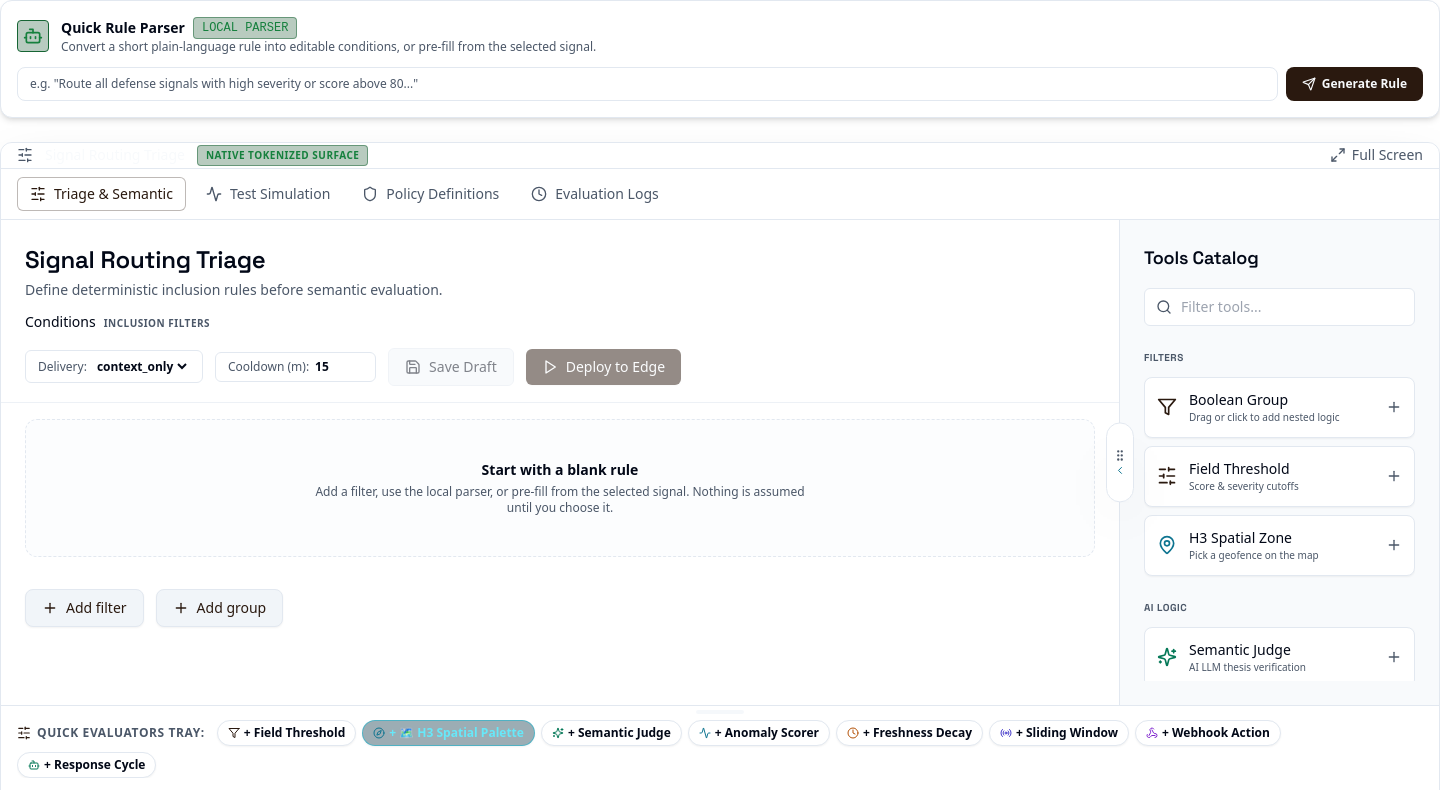
Test: RuleBuilder Component › switches to Policy Definitions tab and renders active governance matrix
This screenshot has width=1440, height=790.
Click the button "Policy Definitions" at (431, 194), box [350,178,511,210]
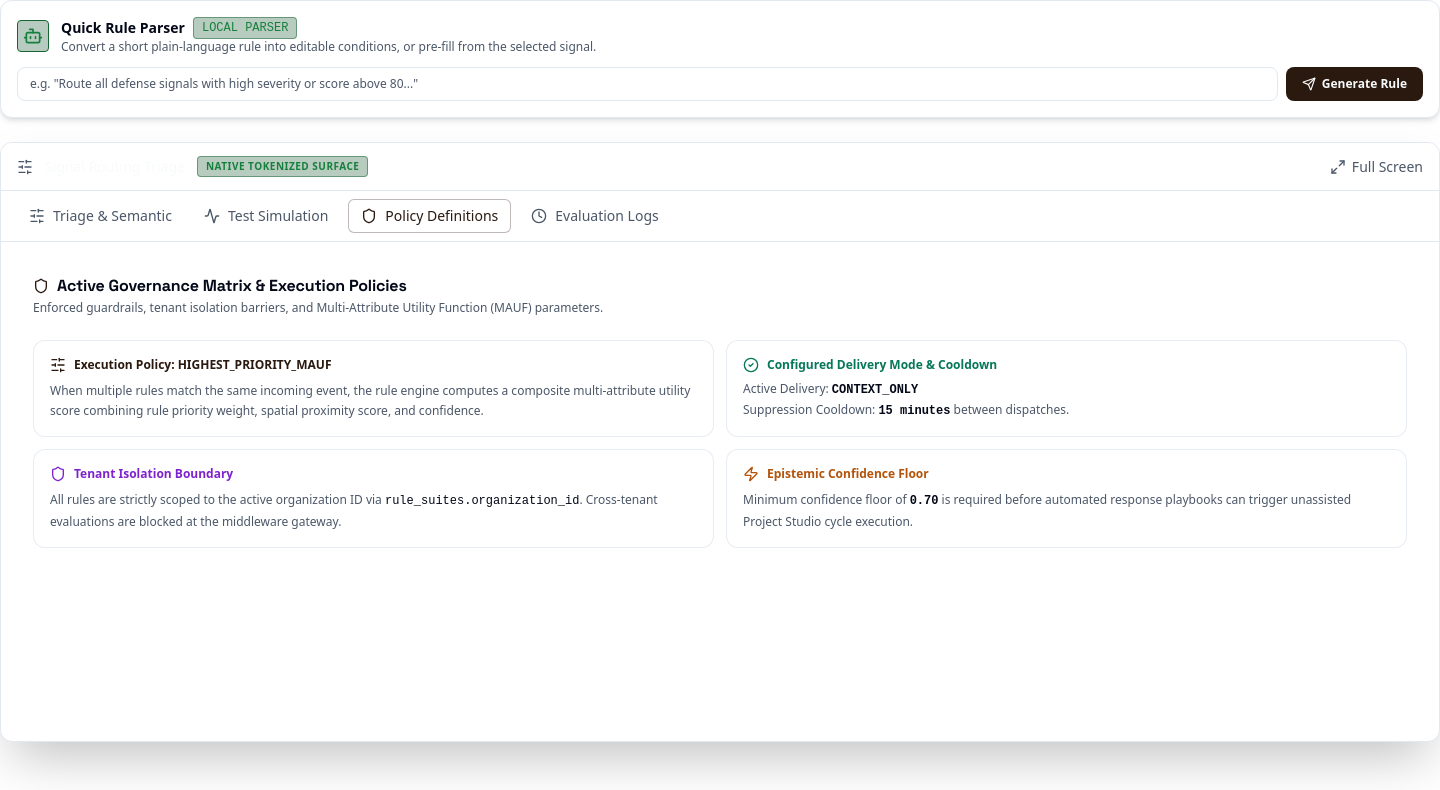
Expected: the heading "Active Governance Matrix & Execution Policies" is shown, [33,275,407,296]
Expected: the text "Execution Policy: HIGHEST_PRIORITY_MAUF" is shown, [74,357,332,373]
Expected: the text "Tenant Isolation Boundary" is shown, [74,466,233,482]
